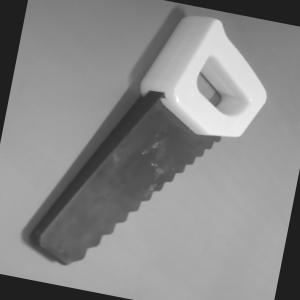serrote: (23, 0, 280, 298)
